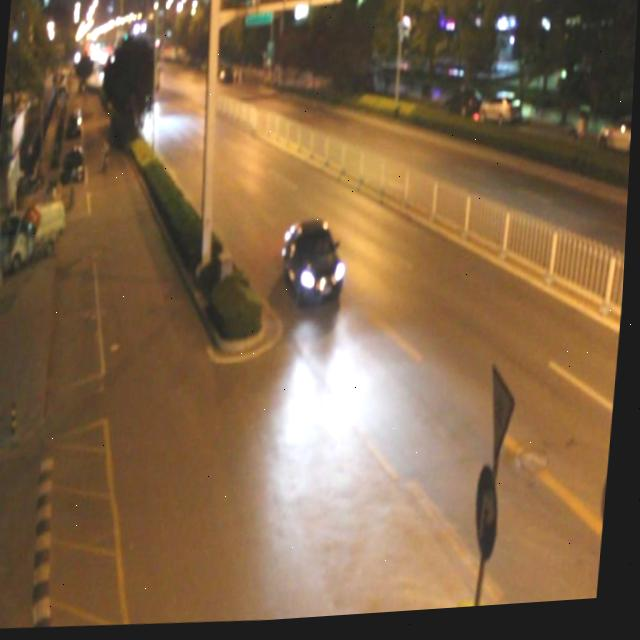car: (278, 221, 350, 314)
